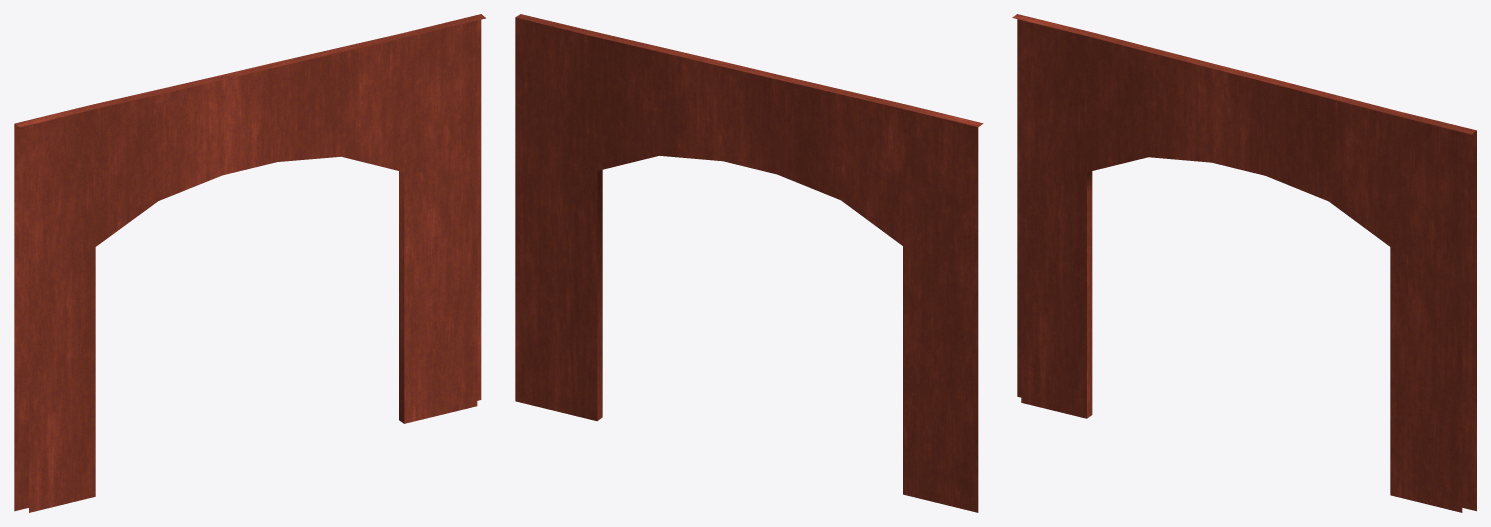
The model's file is SM_Meeting_Wall.fbx.
The picture shows the model from 3 angles, left to right: view 1: azimuth 30°, elevation 25°; view 2: azimuth 150°, elevation 25°; view 3: azimuth 330°, elevation 25°; orthographic projection.
Visible parts, largest first — view 1: SM_Meeting_Wall; view 2: SM_Meeting_Wall; view 3: SM_Meeting_Wall.
Boxes of the visible parts, left/top/right/bottom form: SM_Meeting_Wall: left=14, top=14, right=485, bottom=512; SM_Meeting_Wall: left=515, top=14, right=983, bottom=512; SM_Meeting_Wall: left=1012, top=14, right=1476, bottom=512.
Size of the model in its own units: 358 by 7.88 by 286.
1 material, 1 textured.
